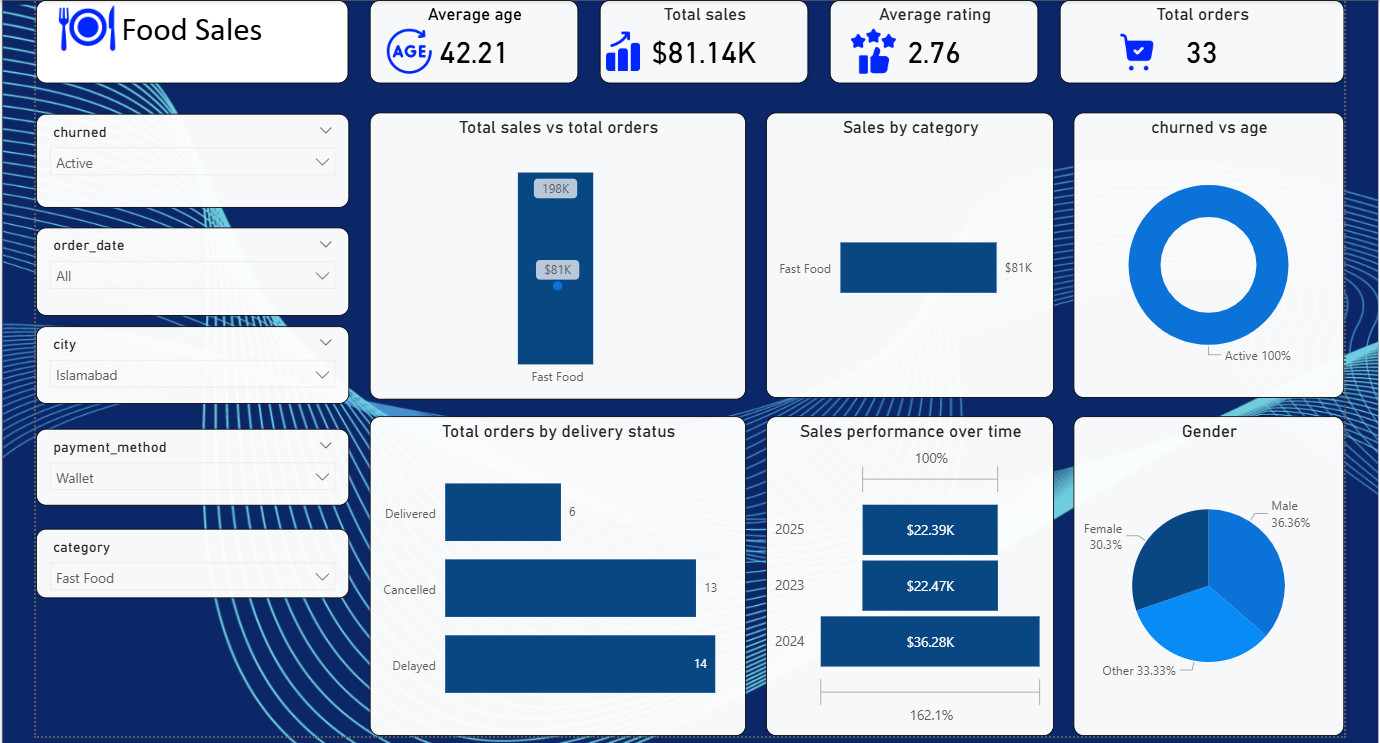

This screenshot's page, from the dashboard's own definition file:
{"tool":"powerbi","page":{"name":"Page 1","canvas":[1280,720],"ordinal":0},"visuals":[{"type":"funnel","title":"Sales performance over time","fields":{"Category":["Foodpanda Analysis Dataset.order_date.Variation.Date Hierarchy.Year"],"Y":["Sum(Foodpanda Analysis Dataset.total sales)"]},"box":[713.8,407.4,281.8,312.6],"z":0},{"type":"lineStackedColumnComboChart","title":"Total  sales vs total orders","fields":{"Category":["Foodpanda Analysis Dataset.category"],"Y":["Sum(food.Total order)"],"Y2":["Sum(Foodpanda Analysis Dataset.total sales)"]},"box":[326.2,109.5,368,280.6],"z":1000},{"type":"pieChart","title":"Gender","fields":{"Category":["Foodpanda Analysis Dataset.gender"],"Y":["CountNonNull(Foodpanda Analysis Dataset.customer_id)"]},"box":[1015.4,407.4,264.6,312.6],"z":2000},{"type":"barChart","title":"Sales  by category","fields":{"Category":["Foodpanda Analysis Dataset.category"],"Y":["Sum(food.total sales)"]},"box":[713.8,109.5,281.8,279.4],"z":3000},{"type":"barChart","title":"Total orders by delivery status","fields":{"Category":["Foodpanda Analysis Dataset.delivery_status"],"Y":["CountNonNull(Foodpanda Analysis Dataset.Total order)"]},"box":[326.2,407.4,368,312.6],"z":4000},{"type":"card","title":"Total sales","fields":{"Values":["Sum(Foodpanda Analysis Dataset.total sales)"]},"box":[551.4,0,204.3,81.2],"z":5000},{"type":"card","title":"Total orders","fields":{"Values":["CountNonNull(Foodpanda Analysis Dataset.order_id)"]},"box":[1001.8,0,278.2,81.2],"z":6000},{"type":"card","title":"Average rating","fields":{"Values":["Avg(Foodpanda Analysis Dataset.rating)"]},"box":[776.6,0,204.3,81.2],"z":7000},{"type":"card","title":"Average age","fields":{"Values":["Avg(Foodpanda Analysis Dataset.age)"]},"box":[326.2,0,204.3,81.2],"z":8000},{"type":"textbox","title":"hhhh","box":[0,0,305.2,81.2],"z":9000},{"type":"donutChart","title":" churned vs age","fields":{"Category":["Foodpanda Analysis Dataset.churned"],"Y":["Avg(food.age)"]},"box":[1015.4,109.5,264.6,279.4],"z":10000},{"type":"slicer","fields":{"Values":["Foodpanda Analysis Dataset.city"]},"box":[0,319.1,306.5,76.3],"z":11000},{"type":"slicer","fields":{"Values":["Foodpanda Analysis Dataset.category"]},"box":[0,517.2,306.5,67.7],"z":12000},{"type":"slicer","title":"Order","fields":{"Values":["Foodpanda Analysis Dataset.order_date"]},"box":[0,223.1,306.5,86.2],"z":13000},{"type":"image","box":[551.4,28.3,45.5,44.3],"z":14000},{"type":"image","box":[342.2,28.3,45.5,44.3],"z":15000},{"type":"image","box":[797.5,28.3,44.3,44.3],"z":16000},{"type":"image","box":[1054.8,28.3,43.1,44.3],"z":17000},{"type":"image","box":[20.9,0,57.8,55.4],"z":18000},{"type":"slicer","fields":{"Values":["Foodpanda Analysis Dataset.churned"]},"box":[0,111.1,306.5,92.3],"z":19000},{"type":"slicer","fields":{"Values":["Foodpanda Analysis Dataset.payment_method"]},"box":[0,420,306.5,75.1],"z":20000},{"type":"slicer","box":[0,609.2,305.2,110.8],"z":20001}]}

Visuals, with their boxes in screenshot pixels (x1, y1, x2, y2):
"Sales performance over time" funnel: <region>763, 415, 1050, 734</region>
"Total  sales vs total orders" lineStackedColumnComboChart: <region>368, 112, 743, 397</region>
"Gender" pieChart: <region>1071, 415, 1340, 734</region>
"Sales  by category" barChart: <region>763, 112, 1050, 396</region>
"Total orders by delivery status" barChart: <region>368, 415, 743, 734</region>
"Total sales" card: <region>598, 0, 806, 83</region>
"Total orders" card: <region>1057, 0, 1340, 83</region>
"Average rating" card: <region>827, 0, 1035, 83</region>
"Average age" card: <region>368, 0, 576, 83</region>
"hhhh" textbox: <region>36, 0, 347, 83</region>
" churned vs age" donutChart: <region>1071, 112, 1340, 396</region>
slicer - Foodpanda Analysis Dataset.city: <region>36, 325, 348, 403</region>
slicer - Foodpanda Analysis Dataset.category: <region>36, 527, 348, 596</region>
"Order" slicer: <region>36, 227, 348, 315</region>
image: <region>598, 29, 644, 74</region>
image: <region>385, 29, 431, 74</region>
image: <region>849, 29, 894, 74</region>
image: <region>1111, 29, 1155, 74</region>
image: <region>57, 0, 116, 56</region>
slicer - Foodpanda Analysis Dataset.churned: <region>36, 113, 348, 207</region>
slicer - Foodpanda Analysis Dataset.payment_method: <region>36, 428, 348, 504</region>
slicer: <region>36, 621, 347, 734</region>
